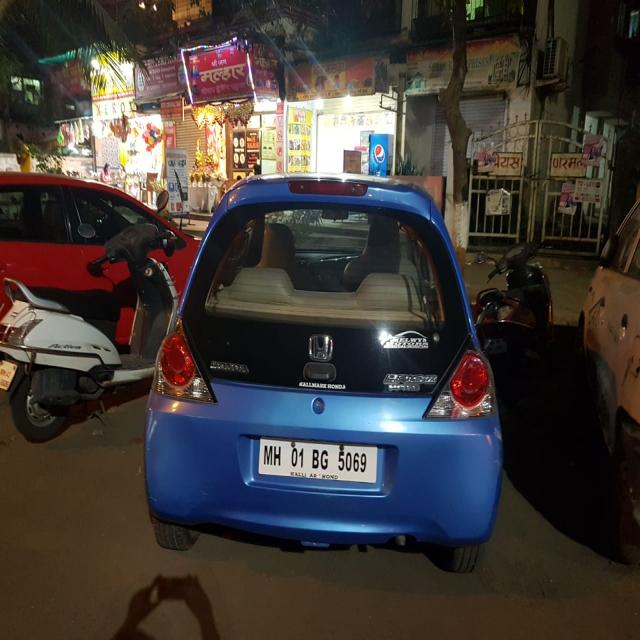Number-Plate: (259, 441, 376, 482)
